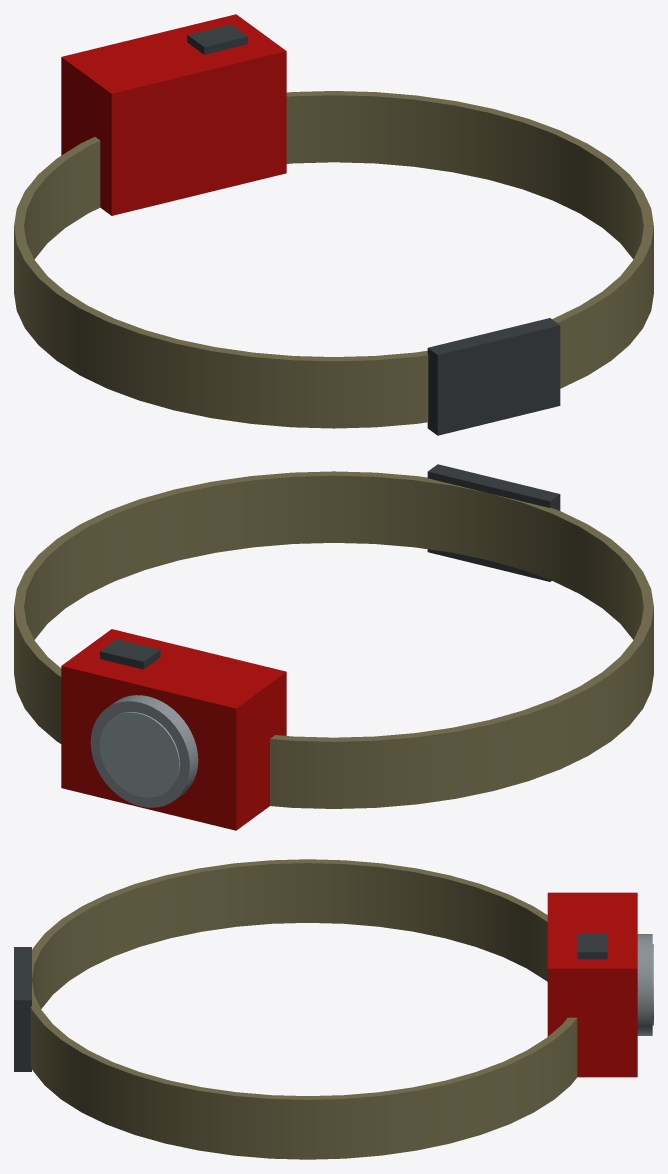
The model's file is headlamp.glb.
3 views of the same model, one above another, from view 1: azimuth 30°, elevation 25°; view 2: azimuth 150°, elevation 25°; view 3: azimuth 270°, elevation 25° (orthographic). The views are drawn at different scales.
Visible parts, largest first — view 1: equipment:headlamp; view 2: equipment:headlamp; view 3: equipment:headlamp.
Boxes of the visible parts, left/top/right/bottom form: equipment:headlamp: left=14, top=14, right=653, bottom=435; equipment:headlamp: left=14, top=464, right=653, bottom=830; equipment:headlamp: left=14, top=859, right=653, bottom=1159.
Bounding box in the file's own units: 0.19 × 0.0447 × 0.2135.
